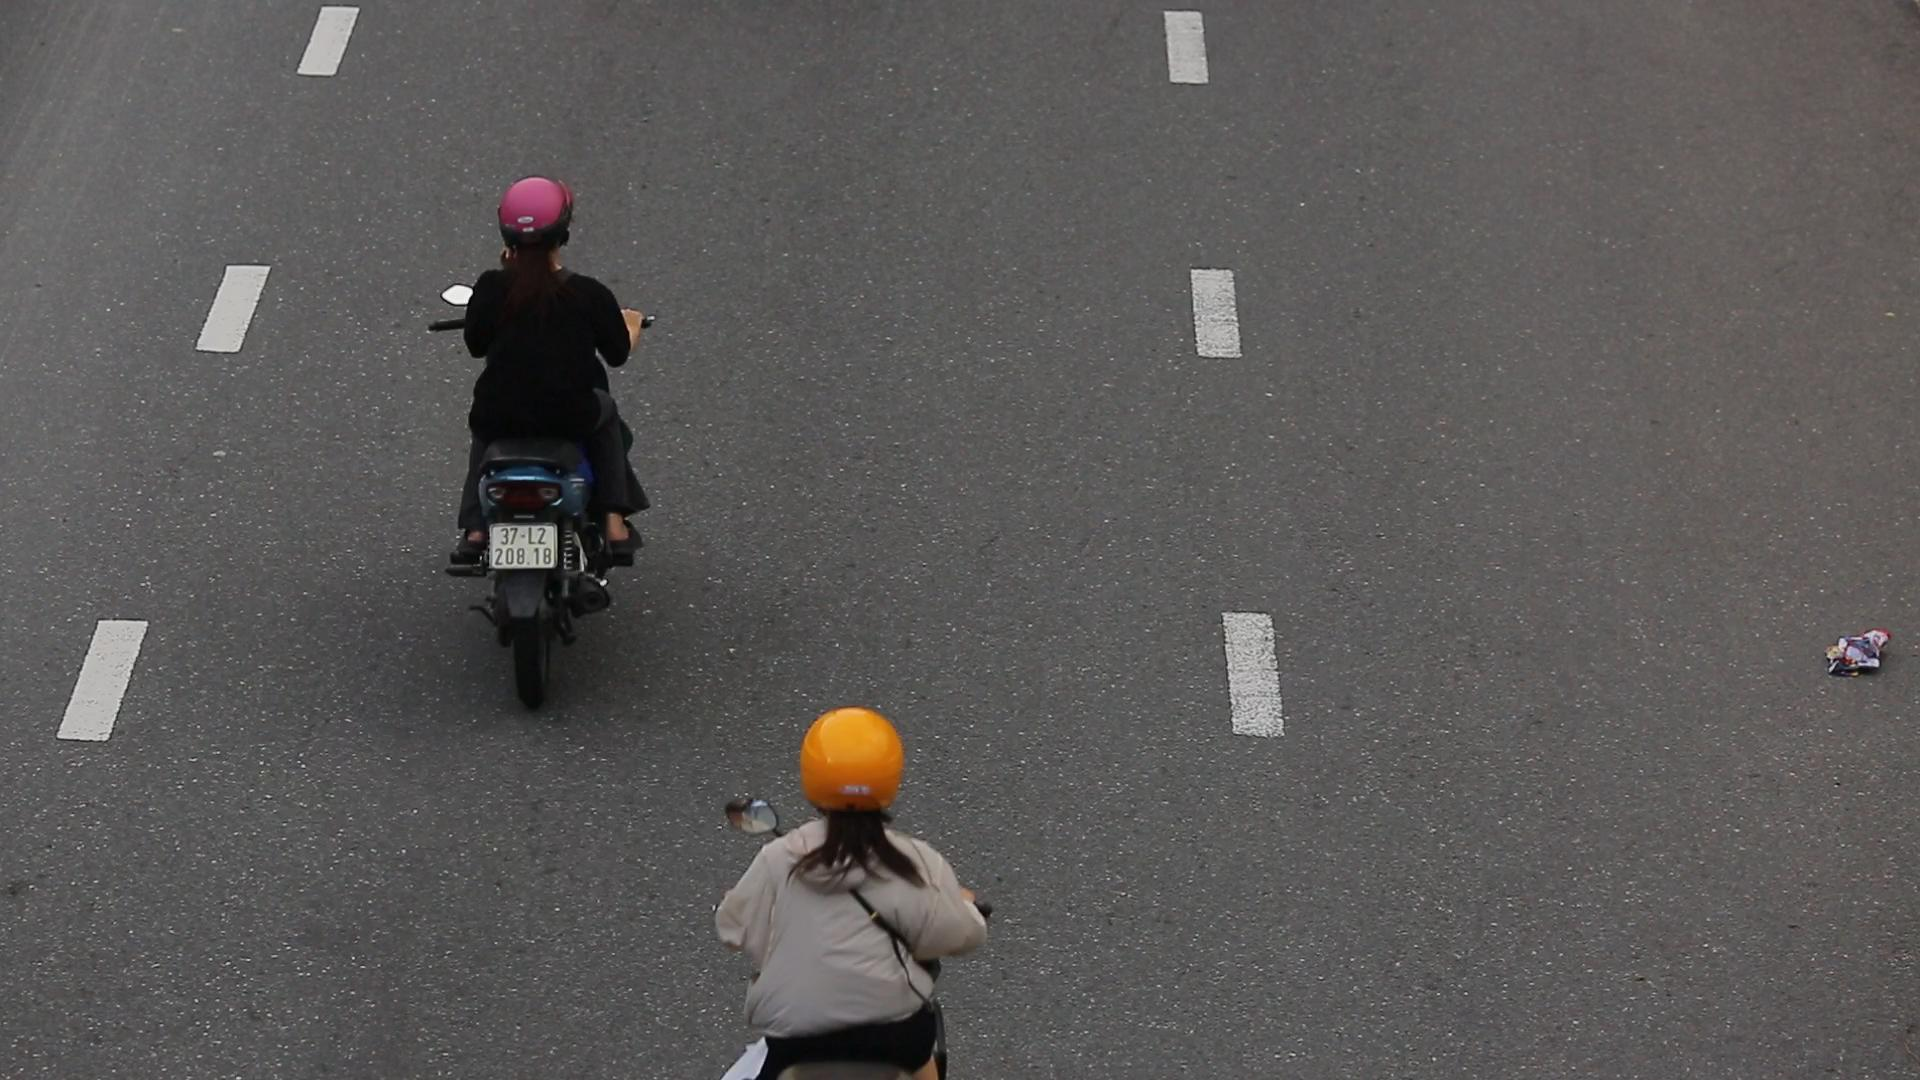motobike: (414, 146, 699, 721)
